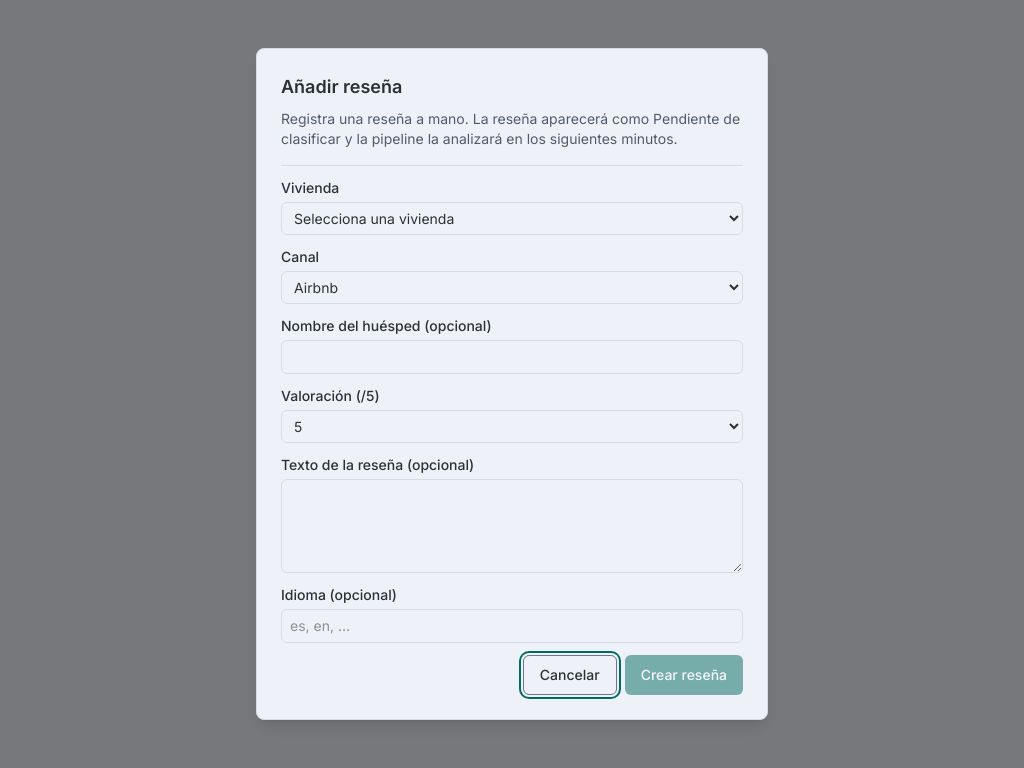
CreateReviewDialog — the form (R5.3, R5.4) › disables submit until a property is chosen
Expected: the button "Crear reseña" is disabled, [625,655,743,695]
Select "Ático Sol" in the dropdown labelled "Vivienda": (512, 218) [281,202,743,235]
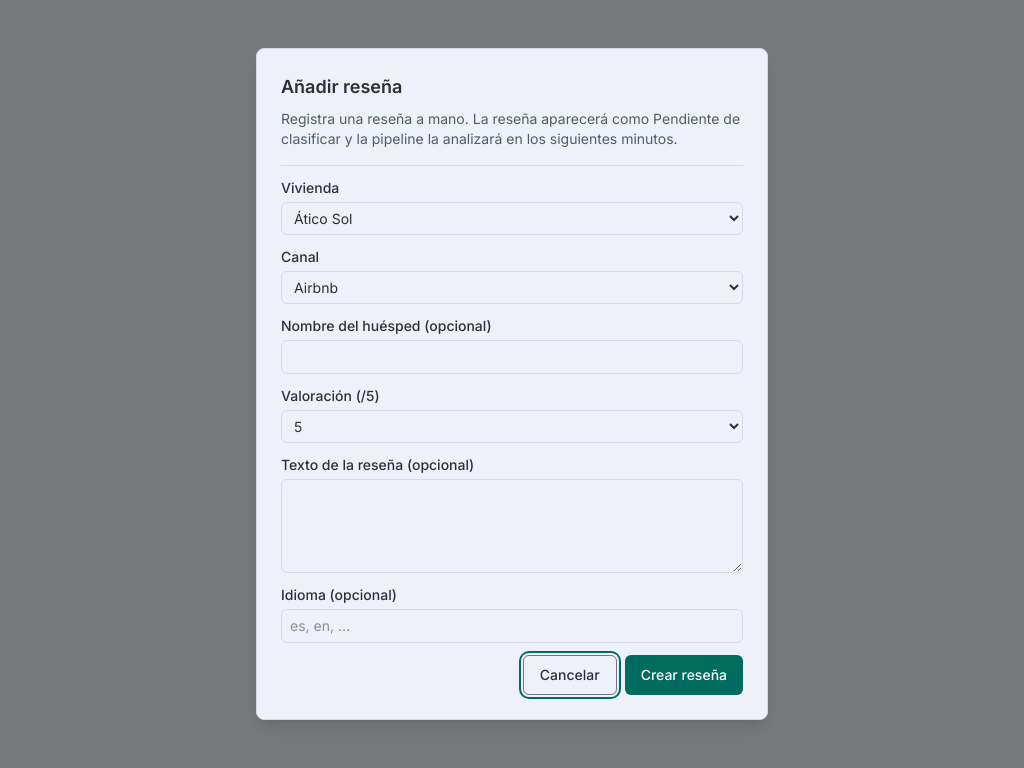
Now the button "Crear reseña" is enabled, box [625,655,743,695]
